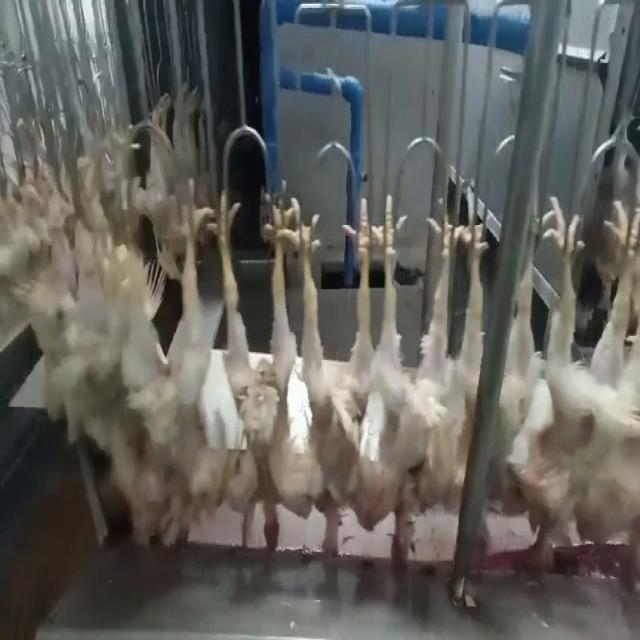chicken: (366, 180, 468, 586), (535, 195, 639, 572), (124, 162, 212, 554), (210, 188, 302, 555), (296, 198, 378, 570)
